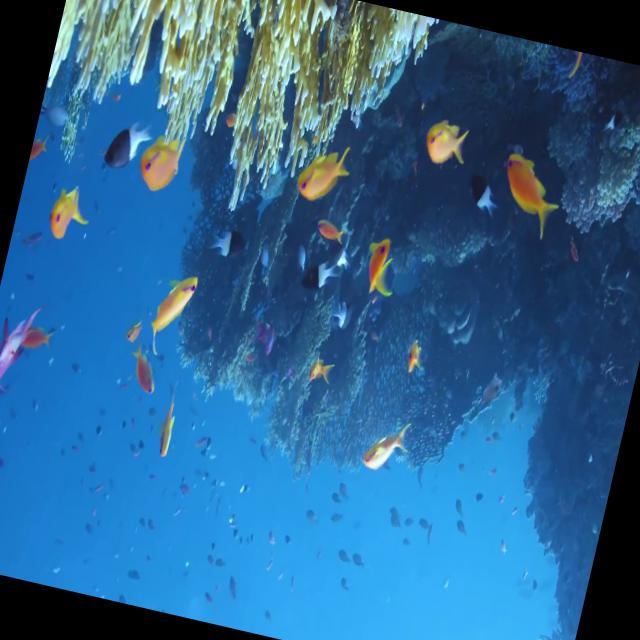fish: (490, 152, 564, 240), (145, 269, 201, 355), (293, 133, 354, 207), (134, 126, 188, 196), (102, 112, 154, 178), (360, 231, 404, 298), (44, 185, 92, 245), (362, 418, 410, 476), (421, 119, 468, 165), (124, 348, 160, 396), (462, 171, 501, 215)
